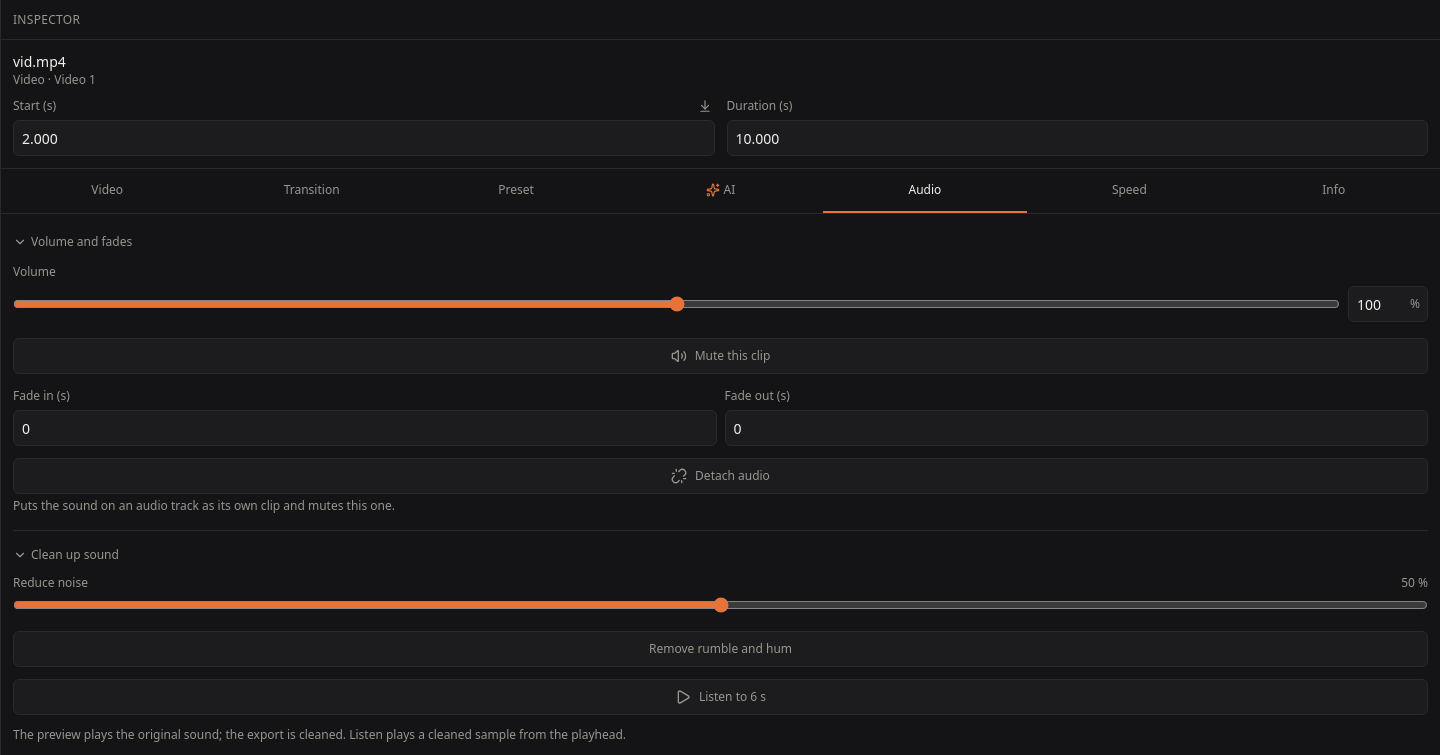
Clean up sound in the Audio tab › plays a cleaned sample from the playhead, and says so when it fails
Click the button "Listen to 6 s". click: coordinates (720, 697)
box: left=13, top=679, right=1428, bottom=715
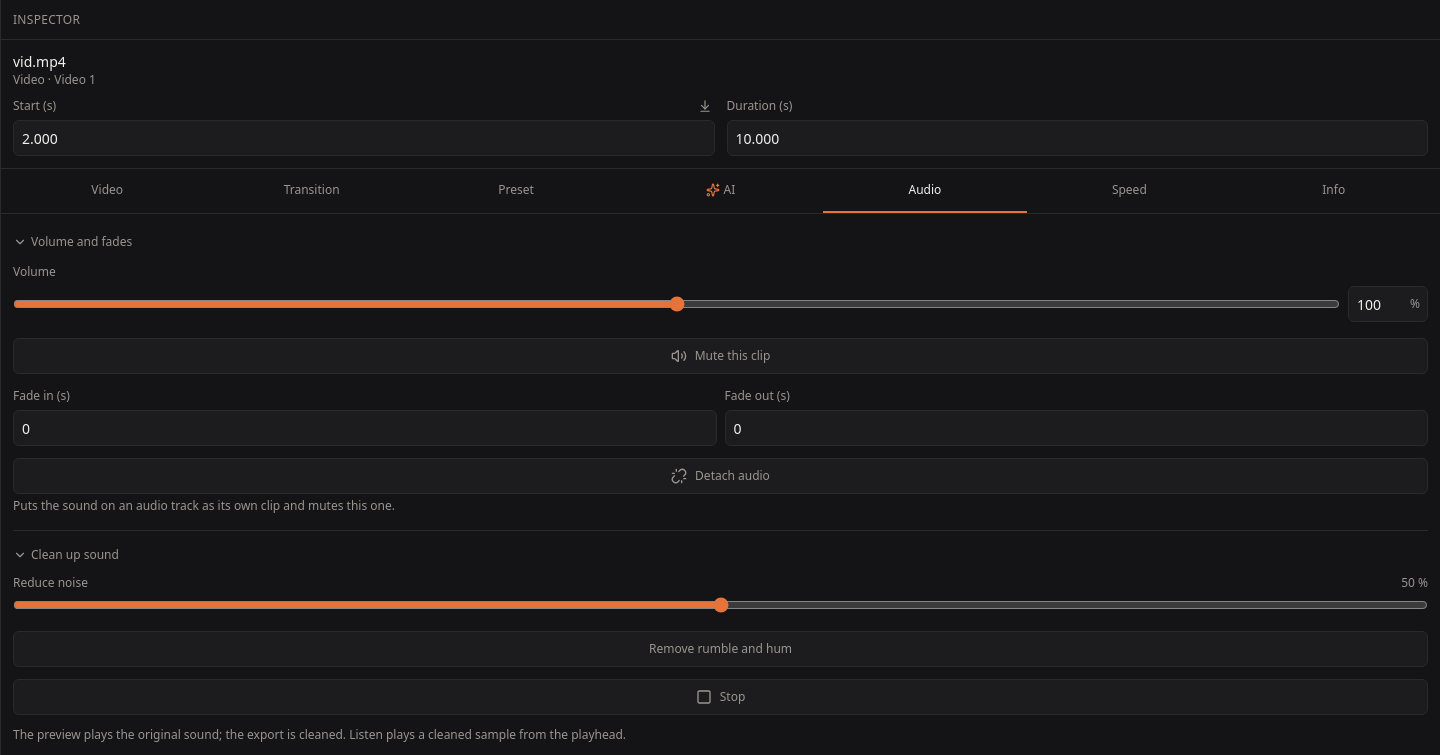
Expected: the button "Stop" is shown
Click the button "Stop". click: coordinates (720, 697)
box: left=13, top=679, right=1428, bottom=715
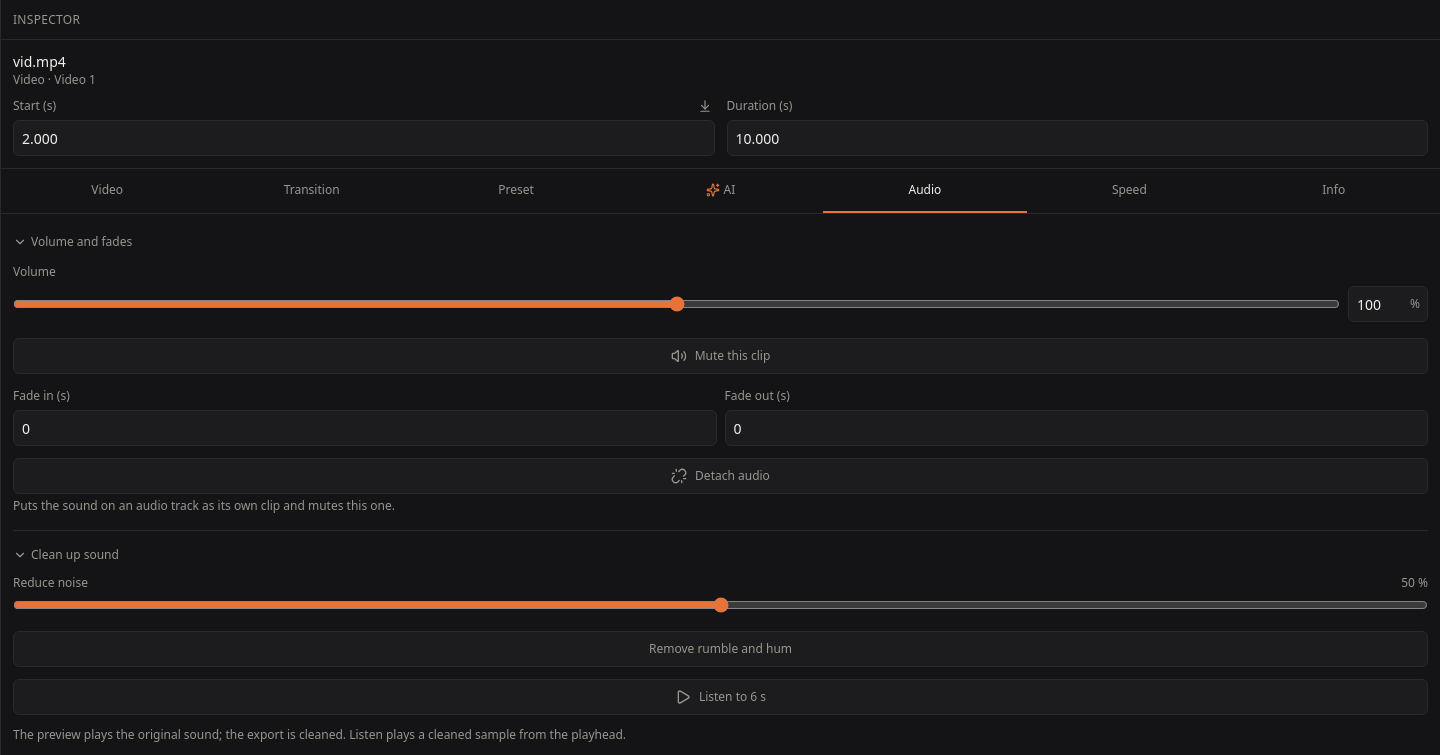
Expected: the button "Listen to 6 s" is shown
Click the button "Listen to 6 s". click: coordinates (720, 697)
box: left=13, top=679, right=1428, bottom=715
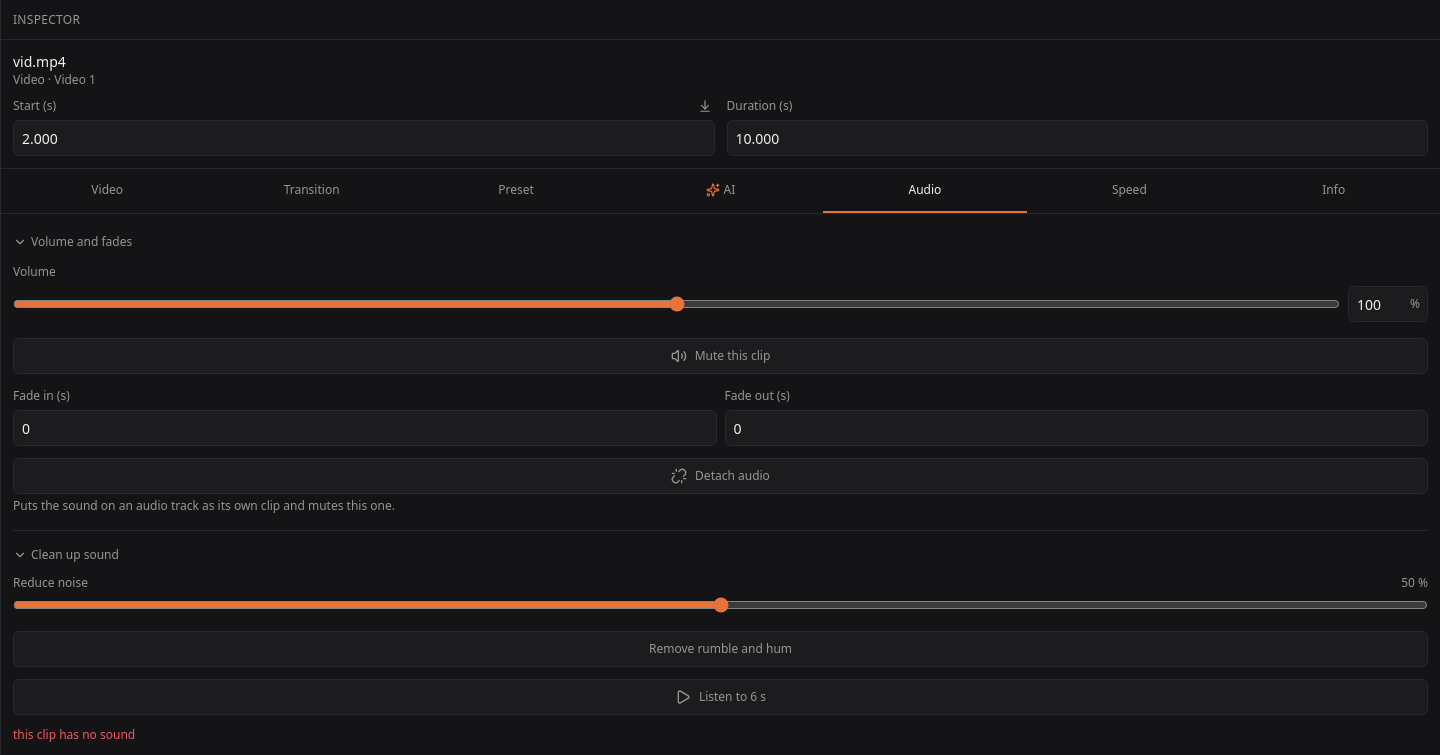
Expected: the message reads "this clip has no sound", left=13, top=726, right=135, bottom=743
